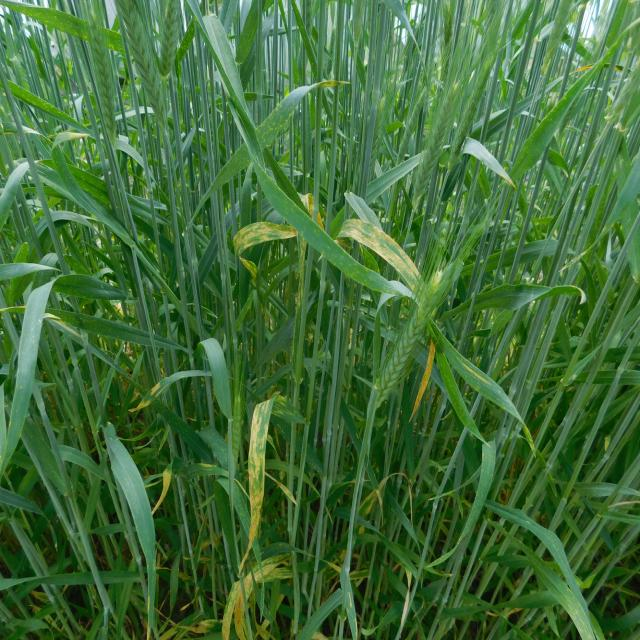wheat-yellowrust: (348, 218, 423, 291), (249, 402, 274, 546), (235, 222, 294, 251), (413, 344, 434, 413), (155, 467, 174, 509), (243, 259, 256, 277), (130, 399, 148, 411), (151, 384, 162, 398)
